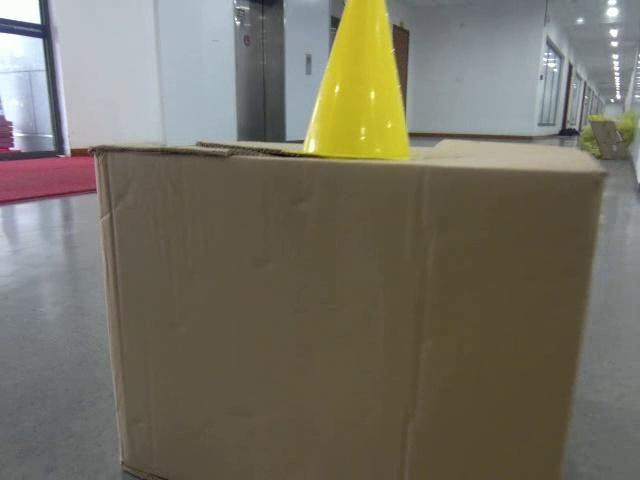yellow_barrel: (299, 0, 424, 160)
